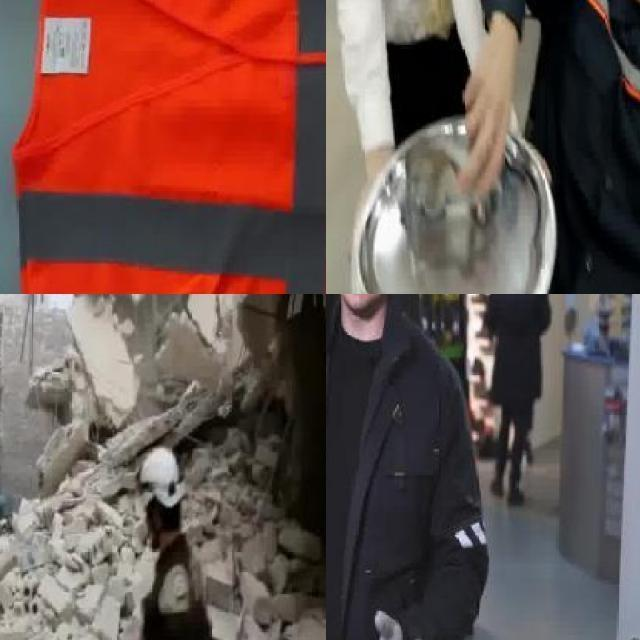apron: (329, 603, 408, 640)
